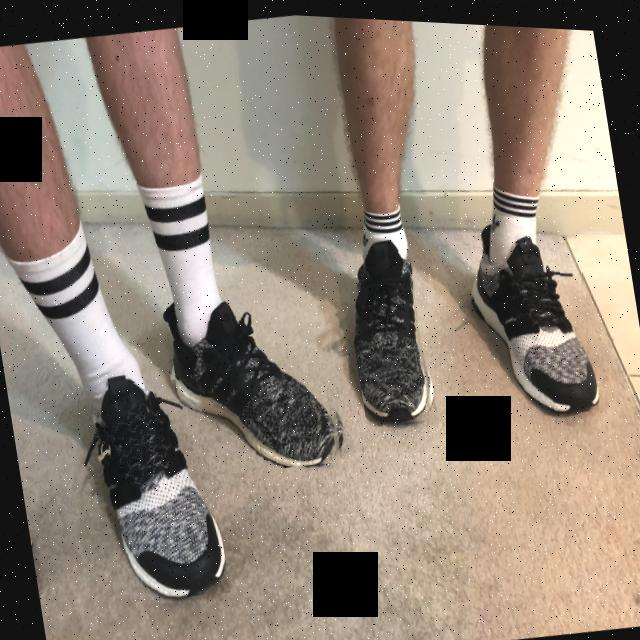shoe: (158, 271, 352, 483), (81, 367, 230, 607), (457, 201, 604, 421), (338, 229, 441, 426)
